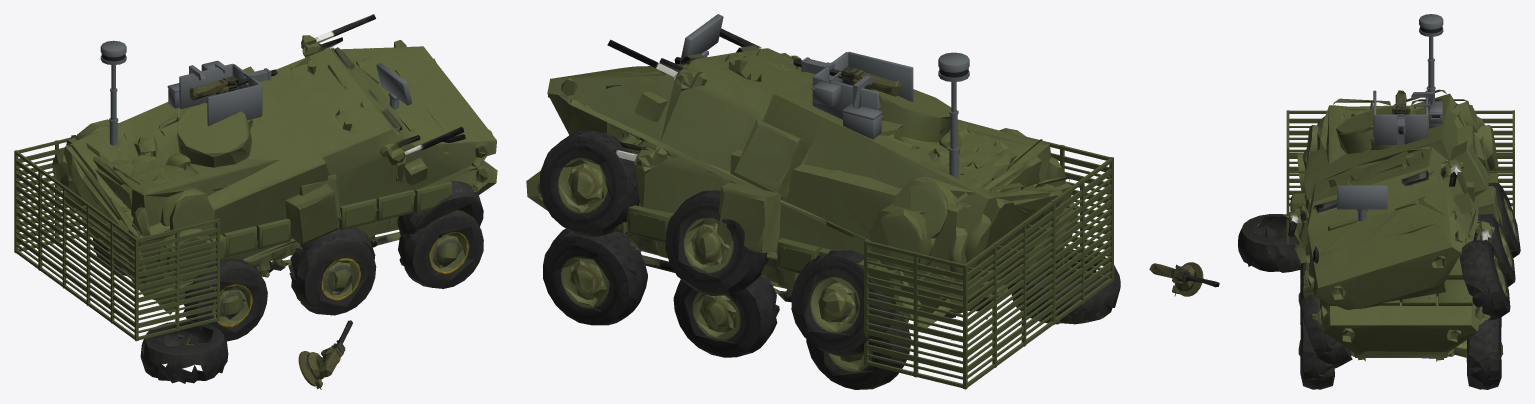
The model's file is apc_kipod.glb.
3 views of the same model, side by side, from view 1: azimuth 30°, elevation 25°; view 2: azimuth 150°, elevation 25°; view 3: azimuth 270°, elevation 25° (orthographic). The views are drawn at different scales.
Parts seen in each view (by area): view 1: WRECK_hull_hull, hull_rubber, hull_hull, kit_armour_3_hull_hull_far, WRECK_hull_rubber, kit_armour_3_hull_hull_near, kit_armour_3_hull_hull, kit_armour_2_hull_hull, kit_firepower_3_turret_metal, kit_sensors_3_hull_hull, WRECK_turret_metal, kit_sensors_2_hull_hull (+2 smaller); view 2: WRECK_hull_hull, hull_hull, WRECK_hull_rubber, hull_rubber, kit_armour_3_hull_hull_far, kit_armour_3_hull_hull_near, kit_armour_3_hull_hull, kit_armour_2_hull_hull, kit_firepower_3_turret_metal, kit_firepower_2_turret_metal, kit_sensors_3_hull_hull, kit_sensors_2_hull_hull (+2 smaller); view 3: WRECK_hull_hull, hull_hull, WRECK_hull_rubber, hull_rubber, kit_firepower_3_turret_metal, kit_armour_1_hull_hull, kit_sensors_2_hull_hull, kit_armour_3_hull_hull, kit_armour_3_hull_hull_far, WRECK_turret_metal, kit_sensors_3_hull_hull, kit_armour_3_hull_hull_near (+2 smaller).
Boxes of the visible parts, x1,y1,x2,y2 form: WRECK_hull_hull: (52, 14, 496, 314); hull_rubber: (93, 211, 483, 341); hull_hull: (58, 107, 497, 318); kit_armour_3_hull_hull_far: (16, 147, 216, 327); WRECK_hull_rubber: (140, 180, 483, 383); kit_armour_3_hull_hull_near: (16, 153, 216, 332); kit_armour_3_hull_hull: (14, 137, 219, 341); kit_armour_2_hull_hull: (206, 181, 451, 262); kit_firepower_3_turret_metal: (179, 63, 262, 125); kit_sensors_3_hull_hull: (100, 40, 126, 145); WRECK_turret_metal: (298, 320, 352, 388); kit_sensors_2_hull_hull: (376, 63, 411, 109); WRECK_hull_hull: (547, 28, 1077, 354); hull_hull: (526, 57, 1065, 383); WRECK_hull_rubber: (540, 130, 1120, 356); hull_rubber: (543, 228, 1013, 389); kit_armour_3_hull_hull_far: (867, 153, 1111, 373); kit_armour_3_hull_hull_near: (867, 157, 1111, 379); kit_armour_3_hull_hull: (864, 137, 1113, 389); kit_armour_2_hull_hull: (612, 205, 900, 298); kit_firepower_3_turret_metal: (812, 51, 913, 119); kit_firepower_2_turret_metal: (801, 57, 882, 139); kit_sensors_3_hull_hull: (938, 52, 969, 178); kit_sensors_2_hull_hull: (680, 14, 723, 64); WRECK_hull_hull: (1284, 89, 1511, 309); hull_hull: (1299, 98, 1502, 361); WRECK_hull_rubber: (1238, 182, 1520, 368); hull_rubber: (1298, 262, 1503, 389); kit_firepower_3_turret_metal: (1373, 90, 1428, 145); kit_armour_1_hull_hull: (1329, 257, 1472, 305); kit_sensors_2_hull_hull: (1337, 185, 1387, 221); kit_armour_3_hull_hull: (1286, 110, 1514, 243); kit_armour_3_hull_hull_far: (1289, 118, 1512, 194); WRECK_turret_metal: (1168, 262, 1219, 296); kit_sensors_3_hull_hull: (1419, 14, 1443, 109); kit_armour_3_hull_hull_near: (1289, 120, 1512, 199).
Bounding box in the file's own units: 7.62 × 5.19 × 6.75.
1 material, 1 textured.
